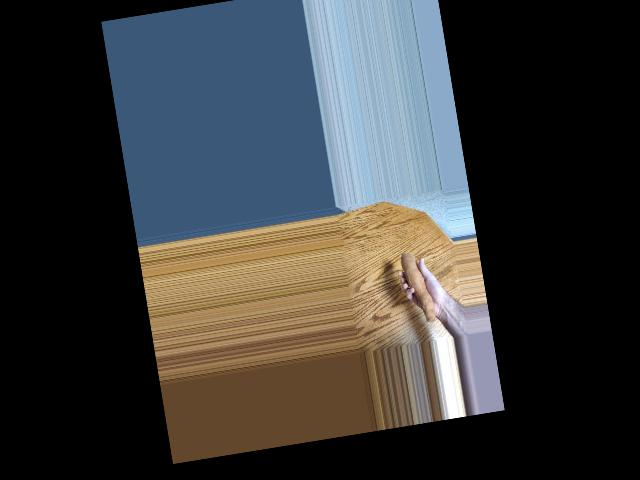sweet_potato: (399, 247, 437, 323)
